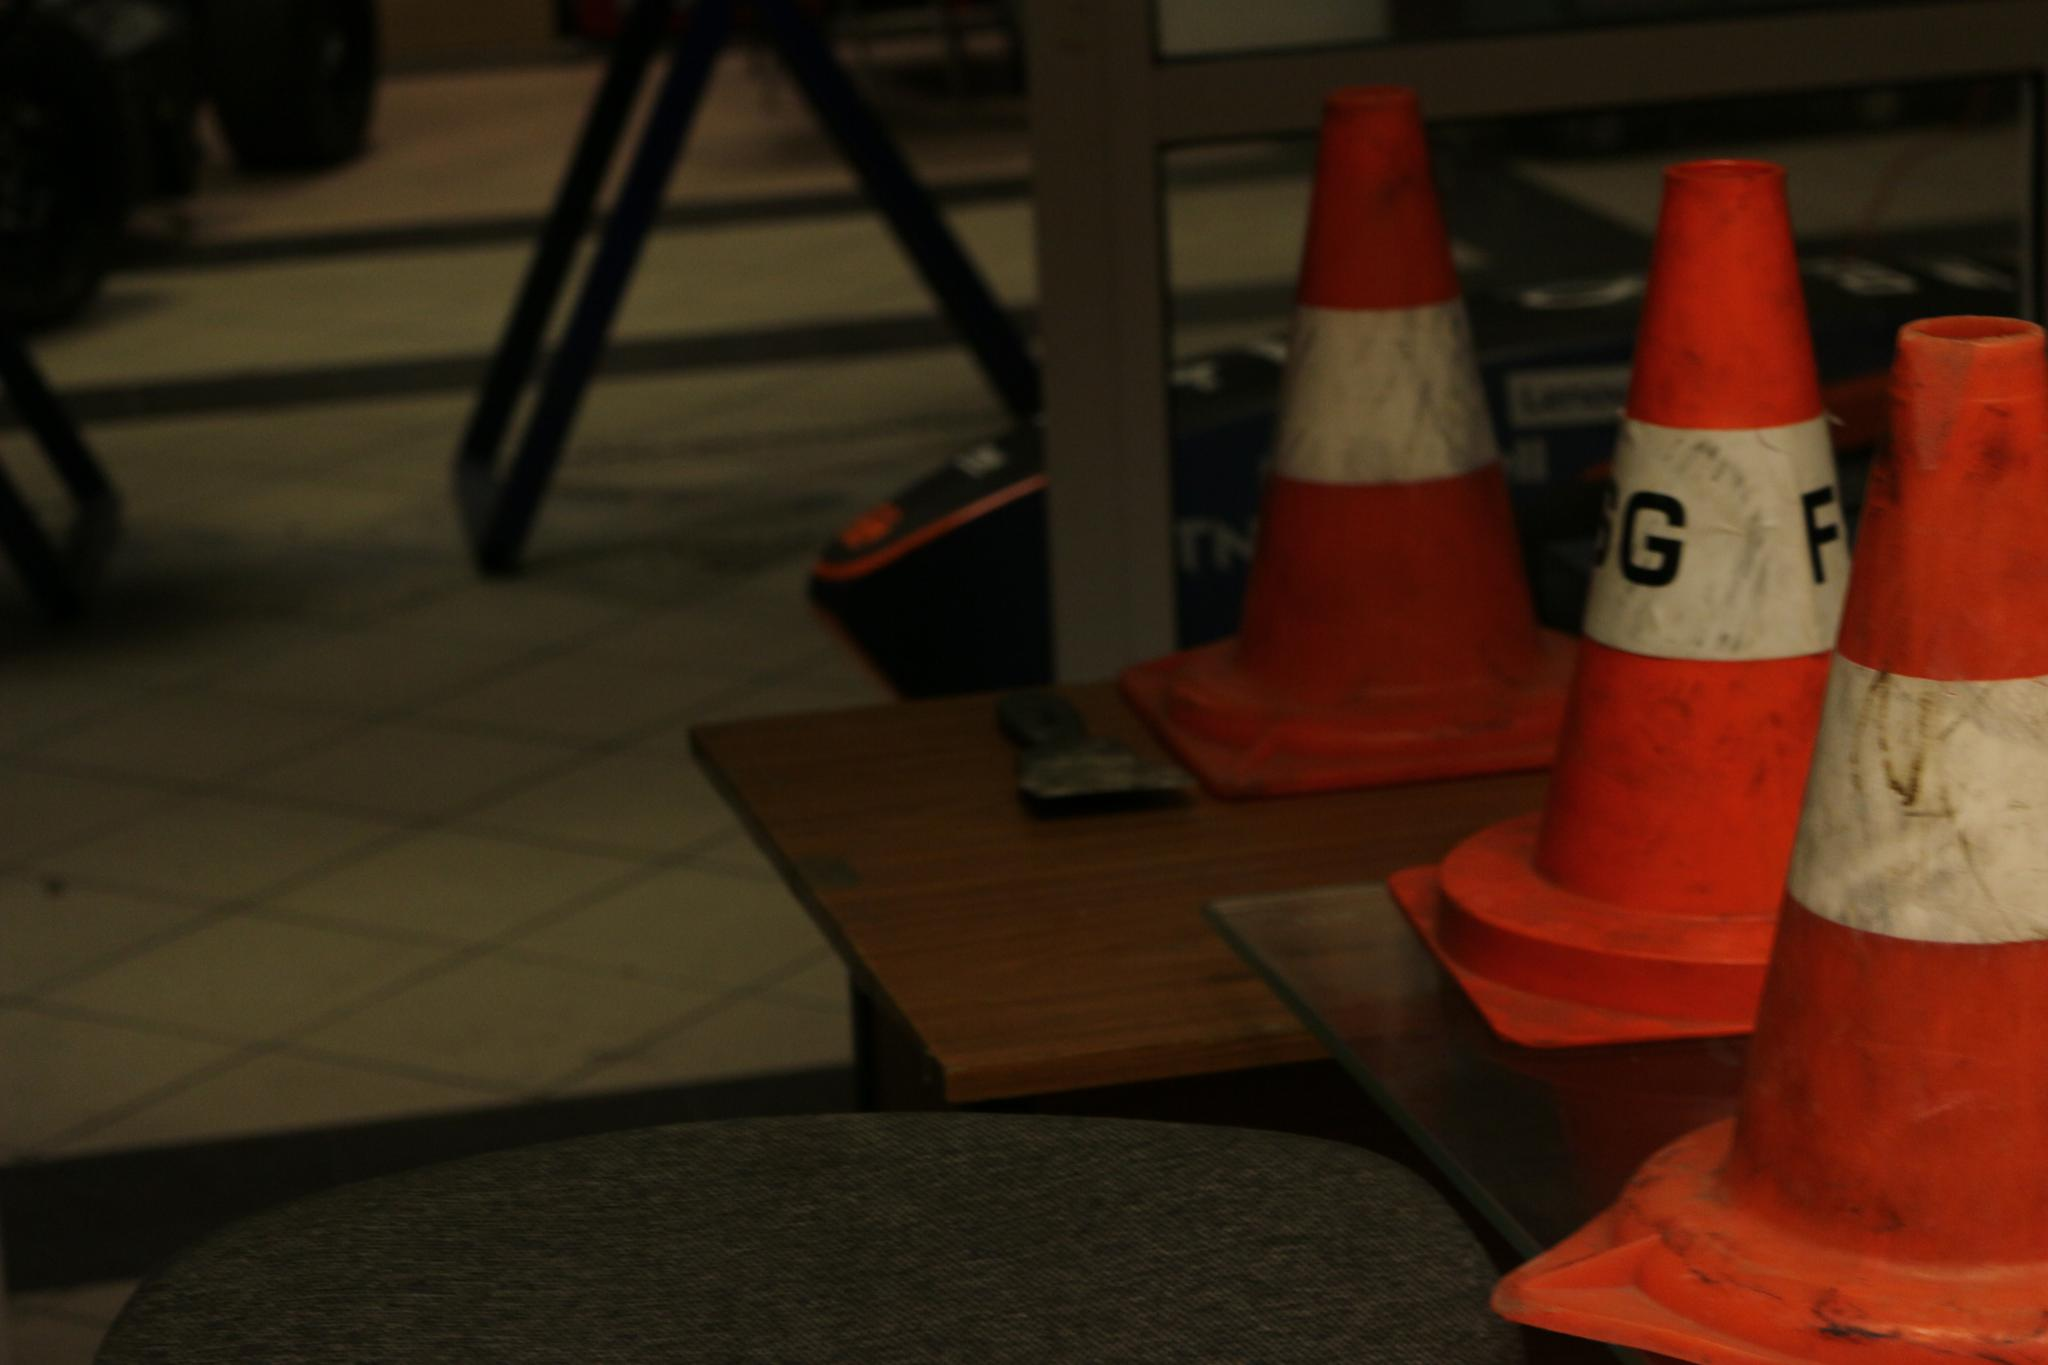Orange_Cone: (1422, 144, 2008, 1049), (1554, 261, 2040, 1340), (1164, 60, 1602, 783)
